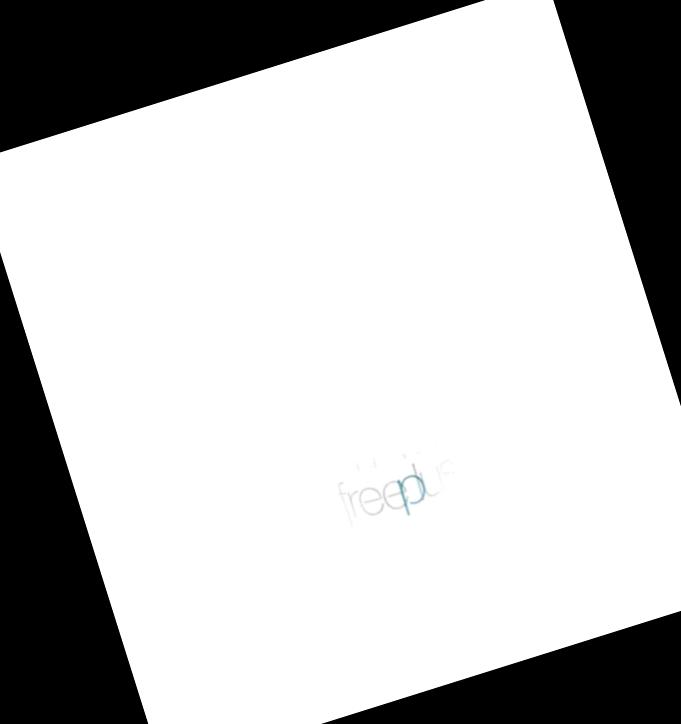cosmetic: (176, 67, 559, 665)
